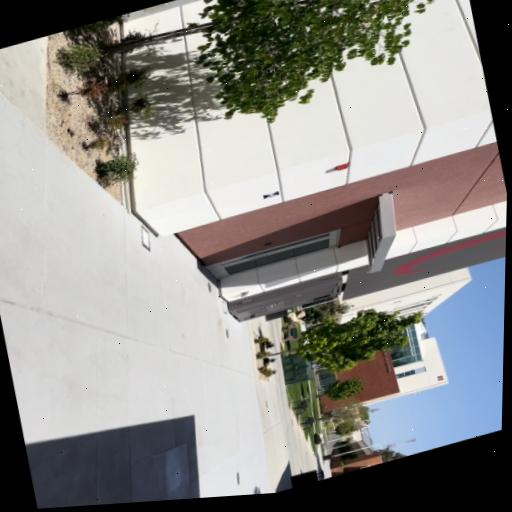target2: (262, 190, 279, 199)
